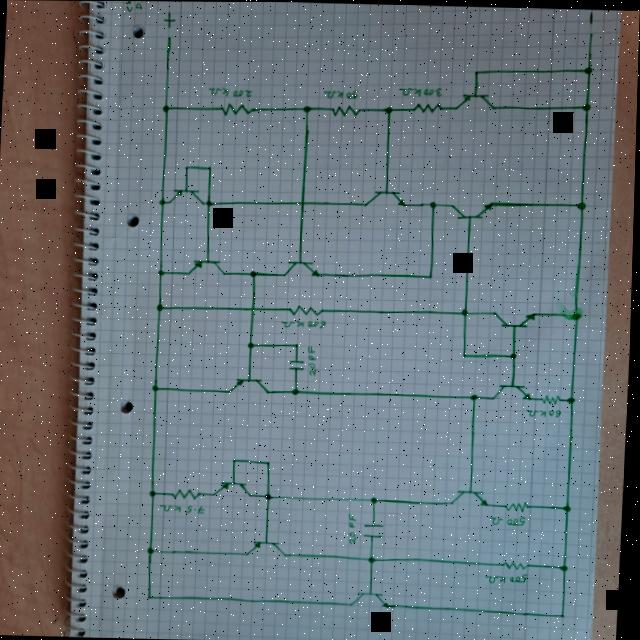capacitor: (363, 521, 387, 539), (287, 358, 307, 371)
crossover: (248, 305, 257, 313), (298, 199, 306, 207)
junction: (563, 306, 583, 322), (575, 199, 587, 210), (581, 63, 593, 74), (300, 104, 312, 115), (580, 101, 591, 112), (368, 554, 379, 564), (157, 196, 166, 208), (149, 489, 159, 499), (246, 340, 256, 350), (160, 103, 170, 113), (382, 105, 392, 115), (427, 199, 437, 209), (370, 495, 380, 505), (567, 394, 577, 404), (460, 307, 470, 317), (509, 351, 519, 361), (564, 502, 574, 512), (151, 383, 161, 393), (469, 392, 479, 401), (249, 269, 258, 279), (155, 302, 164, 312), (291, 386, 301, 395), (156, 267, 165, 277), (203, 198, 213, 207), (265, 492, 274, 501), (148, 546, 157, 555), (562, 562, 571, 571), (471, 67, 479, 75), (427, 272, 435, 280), (461, 351, 469, 359), (265, 459, 273, 467), (147, 593, 155, 601), (205, 164, 213, 172), (231, 457, 238, 464), (561, 612, 568, 619), (183, 164, 190, 171), (293, 342, 300, 348)
resistor: (217, 100, 253, 117), (328, 102, 362, 119), (171, 486, 203, 503), (410, 99, 443, 115), (287, 304, 323, 317), (505, 500, 531, 513), (503, 559, 531, 571), (540, 392, 563, 405)
terminal: (164, 34, 172, 43), (585, 29, 593, 37)
text: (160, 503, 208, 516), (396, 85, 442, 98), (207, 86, 253, 99), (280, 318, 326, 330), (489, 514, 528, 527), (485, 573, 530, 584), (322, 88, 358, 101), (347, 512, 361, 545), (527, 407, 563, 419), (306, 346, 320, 376), (160, 10, 175, 30), (585, 9, 594, 25)
transistor: (351, 586, 395, 612), (187, 253, 229, 280), (453, 89, 496, 114), (228, 374, 274, 397), (246, 536, 290, 560), (363, 188, 408, 211), (490, 308, 537, 330), (449, 199, 492, 221), (282, 256, 323, 279), (216, 477, 256, 500), (452, 485, 490, 509), (493, 380, 533, 402), (170, 187, 203, 209)
